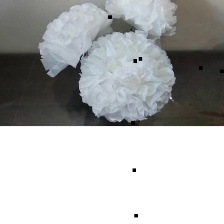tissue: (72, 27, 181, 126), (32, 0, 117, 81), (98, 0, 181, 42)
